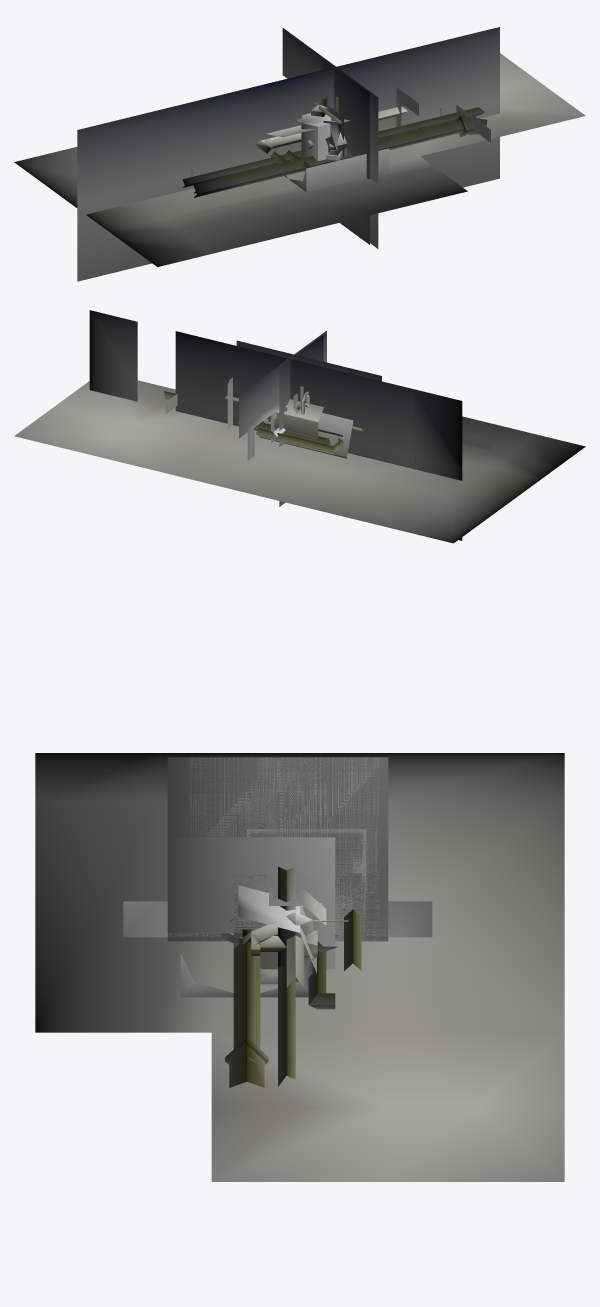
Rendered from backstage_boiler_room.glb.
3 renders of one model, top to bottom at view 1: azimuth 30°, elevation 25°; view 2: azimuth 150°, elevation 25°; view 3: azimuth 270°, elevation 25°, orthographic. The views are drawn at different scales.
Parts seen in each view (by area): view 1: 0x7a5_Backstage_Boiler_Room_Left_Wall_Face_Adjacent_To_Orang, 0x779_Backstage_Boiler_Room_Mesh_Enclosing_Orange_Tank_Right, 0x789_Backstage_Boiler_Room_Angled_Pipe_Connecting_Ceiling_P, 0x7a4_Backstage_Boiler_Room_Wall_Behind_Orange_Tank, 0x7a1_Backstage_Boiler_Room_Wall_Section_Around_Door, 0x75d_Backstage_Boiler_Room_Orange_Tank_End_Section, 0x78c_Backstage_Boiler_Room_Pipe_Leading_To_Right_Side_Of_Or, 0x766_Backstage_Boiler_Room_Door_Frame, 0x78f_Backstage_Boiler_Room_Power_Cables_Behind_Orange_Tank, 0x77f_Backstage_Boiler_Room_Junction_Tank_Right_Of_Orange_Ta, 0x78d_Backstage_Boiler_Room_Middle_Ceiling_Pipe_Above_Orange; view 2: 0x779_Backstage_Boiler_Room_Mesh_Enclosing_Orange_Tank_Right, 0x7a3_Backstage_Boiler_Room_Wall_Left_Of_Orange_Tank_Front_F, 0x7a5_Backstage_Boiler_Room_Left_Wall_Face_Adjacent_To_Orang, 0x7a1_Backstage_Boiler_Room_Wall_Section_Around_Door, 0x799_Backstage_Boiler_Room_Grey_Tank_Stand, 0x75e_Backstage_Boiler_Room_Orange_Tank_Stand, 0x7a4_Backstage_Boiler_Room_Wall_Behind_Orange_Tank, 0x7a2_Backstage_Boiler_Room_Wall_Left_Side, 0x781_Backstage_Boiler_Room_Pipe_Connecting_Grey_Tank_And_Le, 0x78e_Backstage_Boiler_Room_Nearest_Ceiling_Pipe_Above_Orang, 0x782_Backstage_Boiler_Room_Nearest_Ceiling_Pipe_Above_Grey_; view 3: 0x779_Backstage_Boiler_Room_Mesh_Enclosing_Orange_Tank_Right, 0x76f_Backstage_Boiler_Room_Mesh_Enclosing_Orange_Tank_Right, 0x777_Backstage_Boiler_Room_Sign_On_Mesh_Door, 0x770_Backstage_Boiler_Room_Mesh_Wall_Farthest_Section, 0x772_Backstage_Boiler_Room_Ceiling_Beyond_Mesh_Wall, 0x789_Backstage_Boiler_Room_Angled_Pipe_Connecting_Ceiling_P, 0x78c_Backstage_Boiler_Room_Pipe_Leading_To_Right_Side_Of_Or, 0x78d_Backstage_Boiler_Room_Middle_Ceiling_Pipe_Above_Orange, 0x75e_Backstage_Boiler_Room_Orange_Tank_Stand, 0x75d_Backstage_Boiler_Room_Orange_Tank_End_Section, 0x773_Backstage_Boiler_Room_Mesh_Wall_Nearest_Section_Above_, 0x77d_Backstage_Boiler_Room_Light_On_Wall_Above_Door (+3 smaller).
Part boxes in pixels (box(x1,y1,x2,y2)): 0x7a5_Backstage_Boiler_Room_Left_Wall_Face_Adjacent_To_Orang: box(77, 27, 499, 281); 0x779_Backstage_Boiler_Room_Mesh_Enclosing_Orange_Tank_Right: box(14, 53, 585, 266); 0x789_Backstage_Boiler_Room_Angled_Pipe_Connecting_Ceiling_P: box(193, 114, 487, 197); 0x7a4_Backstage_Boiler_Room_Wall_Behind_Orange_Tank: box(322, 59, 369, 244); 0x7a1_Backstage_Boiler_Room_Wall_Section_Around_Door: box(282, 28, 378, 248); 0x75d_Backstage_Boiler_Room_Orange_Tank_End_Section: box(284, 148, 389, 192); 0x78c_Backstage_Boiler_Room_Pipe_Leading_To_Right_Side_Of_Or: box(182, 107, 484, 187); 0x766_Backstage_Boiler_Room_Door_Frame: box(302, 117, 331, 171); 0x78f_Backstage_Boiler_Room_Power_Cables_Behind_Orange_Tank: box(396, 87, 418, 134); 0x77f_Backstage_Boiler_Room_Junction_Tank_Right_Of_Orange_Ta: box(256, 106, 407, 156); 0x78d_Backstage_Boiler_Room_Middle_Ceiling_Pipe_Above_Orange: box(194, 116, 480, 193); 0x779_Backstage_Boiler_Room_Mesh_Enclosing_Orange_Tank_Right: box(14, 380, 585, 543); 0x7a3_Backstage_Boiler_Room_Wall_Left_Of_Orange_Tank_Front_F: box(175, 331, 462, 540); 0x7a5_Backstage_Boiler_Room_Left_Wall_Face_Adjacent_To_Orang: box(89, 310, 137, 401); 0x7a1_Backstage_Boiler_Room_Wall_Section_Around_Door: box(239, 330, 326, 438); 0x799_Backstage_Boiler_Room_Grey_Tank_Stand: box(274, 399, 324, 439); 0x75e_Backstage_Boiler_Room_Orange_Tank_Stand: box(259, 413, 353, 458); 0x7a4_Backstage_Boiler_Room_Wall_Behind_Orange_Tank: box(279, 335, 323, 506); 0x7a2_Backstage_Boiler_Room_Wall_Left_Side: box(236, 340, 381, 381); 0x781_Backstage_Boiler_Room_Pipe_Connecting_Grey_Tank_And_Le: box(256, 428, 344, 454); 0x78e_Backstage_Boiler_Room_Nearest_Ceiling_Pipe_Above_Orang: box(165, 394, 492, 450); 0x782_Backstage_Boiler_Room_Nearest_Ceiling_Pipe_Above_Grey_: box(236, 418, 330, 445); 0x779_Backstage_Boiler_Room_Mesh_Enclosing_Orange_Tank_Right: box(35, 753, 564, 1181); 0x76f_Backstage_Boiler_Room_Mesh_Enclosing_Orange_Tank_Right: box(167, 757, 388, 941); 0x777_Backstage_Boiler_Room_Sign_On_Mesh_Door: box(167, 837, 335, 969); 0x770_Backstage_Boiler_Room_Mesh_Wall_Farthest_Section: box(189, 757, 379, 941); 0x772_Backstage_Boiler_Room_Ceiling_Beyond_Mesh_Wall: box(123, 901, 432, 937); 0x789_Backstage_Boiler_Room_Angled_Pipe_Connecting_Ceiling_P: box(225, 945, 268, 1087); 0x78c_Backstage_Boiler_Room_Pipe_Leading_To_Right_Side_Of_Or: box(278, 964, 295, 1086); 0x78d_Backstage_Boiler_Room_Middle_Ceiling_Pipe_Above_Orange: box(238, 941, 255, 1069); 0x75e_Backstage_Boiler_Room_Orange_Tank_Stand: box(238, 885, 316, 973); 0x75d_Backstage_Boiler_Room_Orange_Tank_End_Section: box(180, 953, 313, 997); 0x773_Backstage_Boiler_Room_Mesh_Wall_Nearest_Section_Above_: box(335, 878, 366, 941); 0x77d_Backstage_Boiler_Room_Light_On_Wall_Above_Door: box(278, 912, 317, 982).
Bounding box in the file's own units: 14.33 × 4.65 × 7.35.
